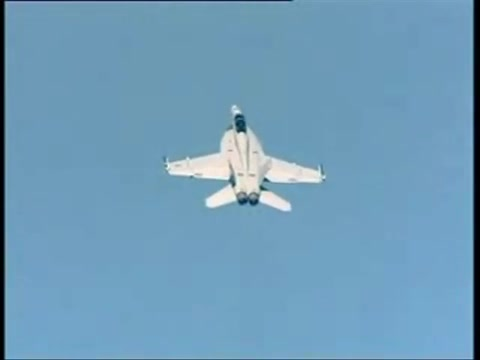aeroplane: (166, 103, 327, 214)
